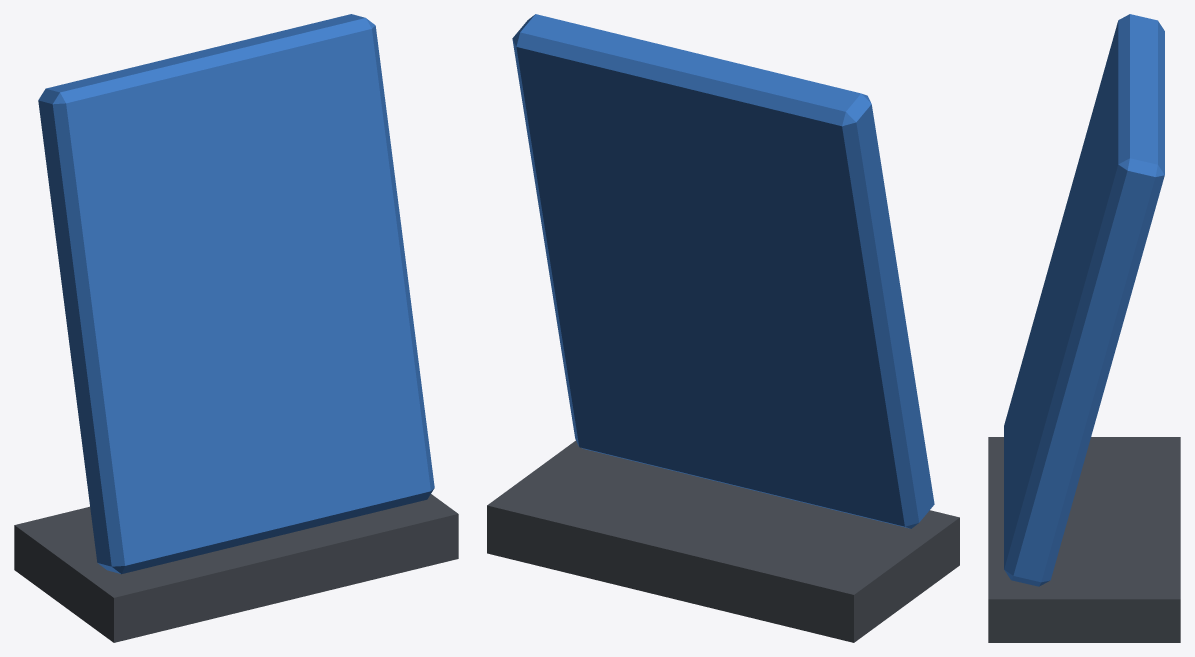
Rendered from prop_selfservice_p0.glb.
The picture shows the model from 3 angles, left to right: view 1: azimuth 30°, elevation 25°; view 2: azimuth 150°, elevation 25°; view 3: azimuth 270°, elevation 25°; orthographic projection. The views are drawn at different scales.
Visible parts, largest first — view 1: prop_selfservice_p0_mesh; view 2: prop_selfservice_p0_mesh; view 3: prop_selfservice_p0_mesh.
Boxes of the visible parts, bbox=[...] form: prop_selfservice_p0_mesh: bbox=[14, 14, 458, 642]; prop_selfservice_p0_mesh: bbox=[487, 14, 959, 642]; prop_selfservice_p0_mesh: bbox=[988, 14, 1180, 642].
Size of the model in its own units: 0.16 by 0.2184 by 0.08.
